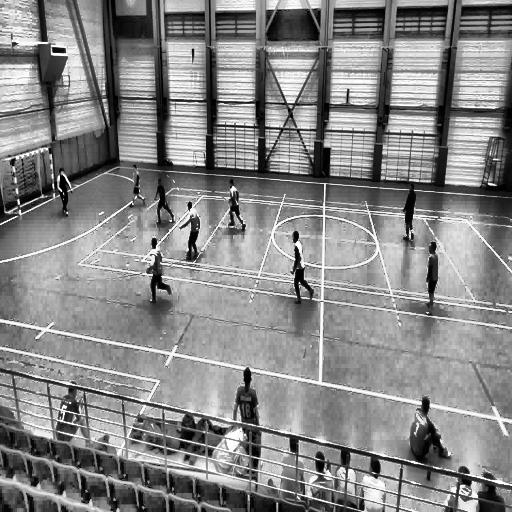ball: (186, 246, 190, 256)
player: (410, 397, 451, 479), (234, 367, 260, 448), (290, 230, 315, 307), (147, 237, 172, 306), (180, 201, 201, 261), (424, 241, 438, 315), (154, 178, 175, 225), (228, 178, 246, 231), (402, 183, 416, 241), (129, 165, 146, 208), (58, 167, 72, 215)
